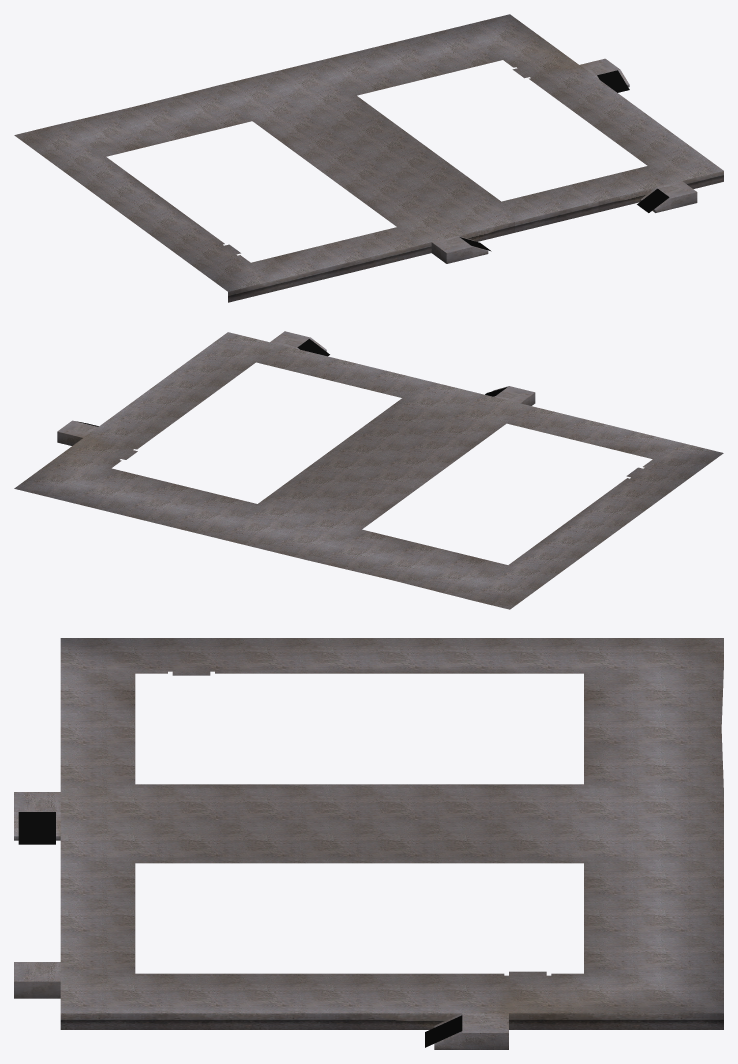
File: M10_Z02Base_20_Floor.glb
The picture shows the model from 3 angles, top to bottom: view 1: azimuth 30°, elevation 25°; view 2: azimuth 150°, elevation 25°; view 3: azimuth 270°, elevation 25°; orthographic projection. The views are drawn at different scales.
Parts seen in each view (by area): view 1: M10_Z02BASE_20_FLOOR; view 2: M10_Z02BASE_20_FLOOR; view 3: M10_Z02BASE_20_FLOOR.
Boxes of the visible parts, left/top/right/bottom form: M10_Z02BASE_20_FLOOR: left=14, top=14, right=723, bottom=302; M10_Z02BASE_20_FLOOR: left=14, top=331, right=723, bottom=609; M10_Z02BASE_20_FLOOR: left=14, top=638, right=723, bottom=1049.
Bounding box in the file's own units: 50 × 1 × 38.
Materials: 4 (3 with a texture image).
